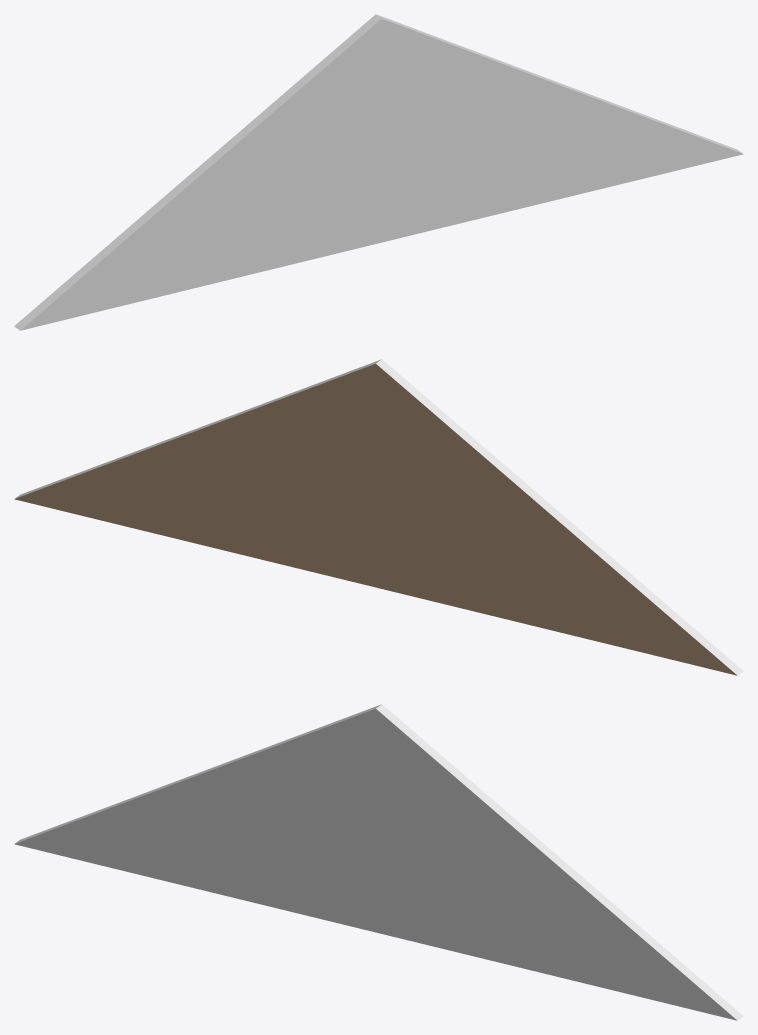
File: Wall2_C2_20.fbx
The picture shows the model from 3 angles, top to bottom: view 1: azimuth 30°, elevation 25°; view 2: azimuth 150°, elevation 25°; view 3: azimuth 330°, elevation 25°; orthographic projection.
Visible parts, largest first — view 1: Wall2_C2_20; view 2: Wall2_C2_20; view 3: Wall2_C2_20.
Boxes of the visible parts, x1,y1,x2,y2 form: Wall2_C2_20: (14, 14, 743, 330); Wall2_C2_20: (14, 359, 743, 675); Wall2_C2_20: (14, 704, 743, 1020).
Bounding box in the file's own units: 1015 × 300 × 15.
